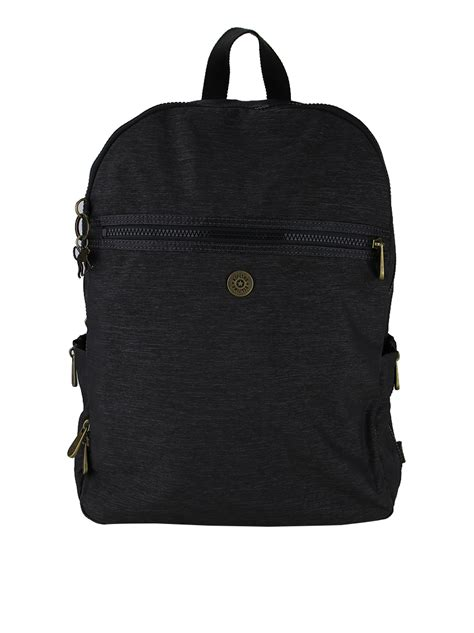nylon: (73, 95, 408, 529)
